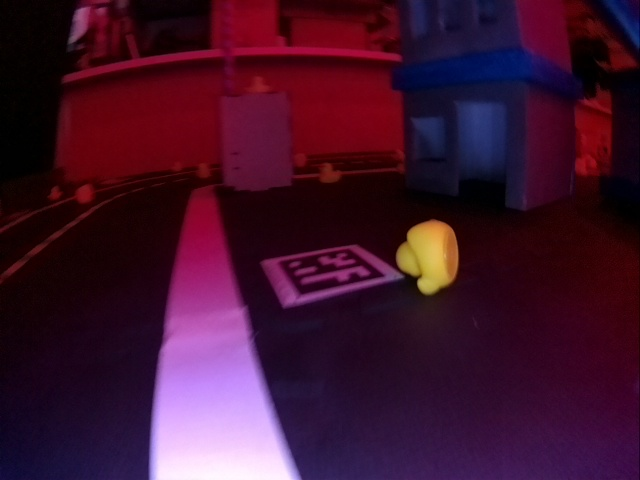Duckie: (398, 220, 459, 293), (246, 78, 273, 93), (322, 164, 340, 183), (76, 185, 94, 202), (48, 189, 61, 199)
QR code: (262, 244, 401, 299)
